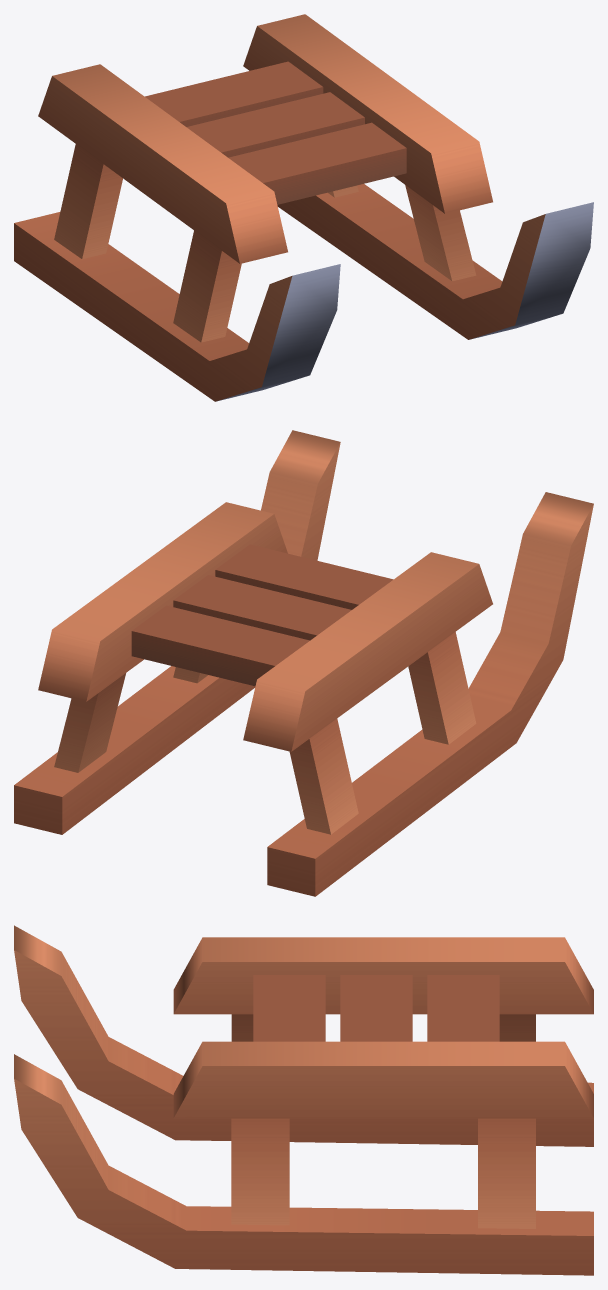
The model's file is cc0-sled-lod1.glb.
The picture shows the model from 3 angles, top to bottom: view 1: azimuth 30°, elevation 25°; view 2: azimuth 150°, elevation 25°; view 3: azimuth 270°, elevation 25°; orthographic projection. The views are drawn at different scales.
Parts seen in each view (by area): view 1: part_0; view 2: part_0; view 3: part_0.
Boxes of the visible parts, bbox=[...] form: part_0: bbox=[14, 14, 593, 401]; part_0: bbox=[14, 430, 593, 896]; part_0: bbox=[14, 925, 593, 1275].
Bounding box in the file's own units: 0.625 × 0.3753 × 1.
1 material, 1 textured.
